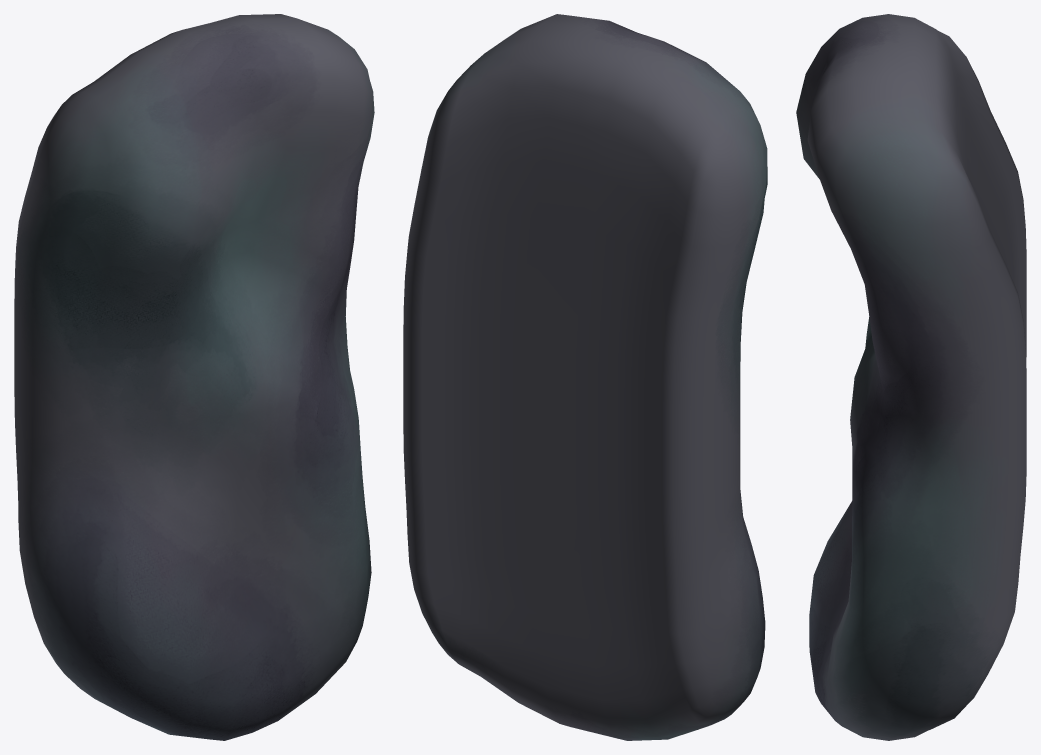
The model's file is CaveWall2.fbx.
The picture shows the model from 3 angles, left to right: view 1: azimuth 30°, elevation 25°; view 2: azimuth 150°, elevation 25°; view 3: azimuth 270°, elevation 25°; orthographic projection.
Parts seen in each view (by area): view 1: CaveWall2; view 2: CaveWall2; view 3: CaveWall2.
Boxes of the visible parts, bbox=[...] form: CaveWall2: bbox=[14, 14, 374, 740]; CaveWall2: bbox=[403, 14, 767, 740]; CaveWall2: bbox=[796, 14, 1026, 740].
Size of the model in its own units: 146 by 300 by 91.29.
1 material, 1 textured.
